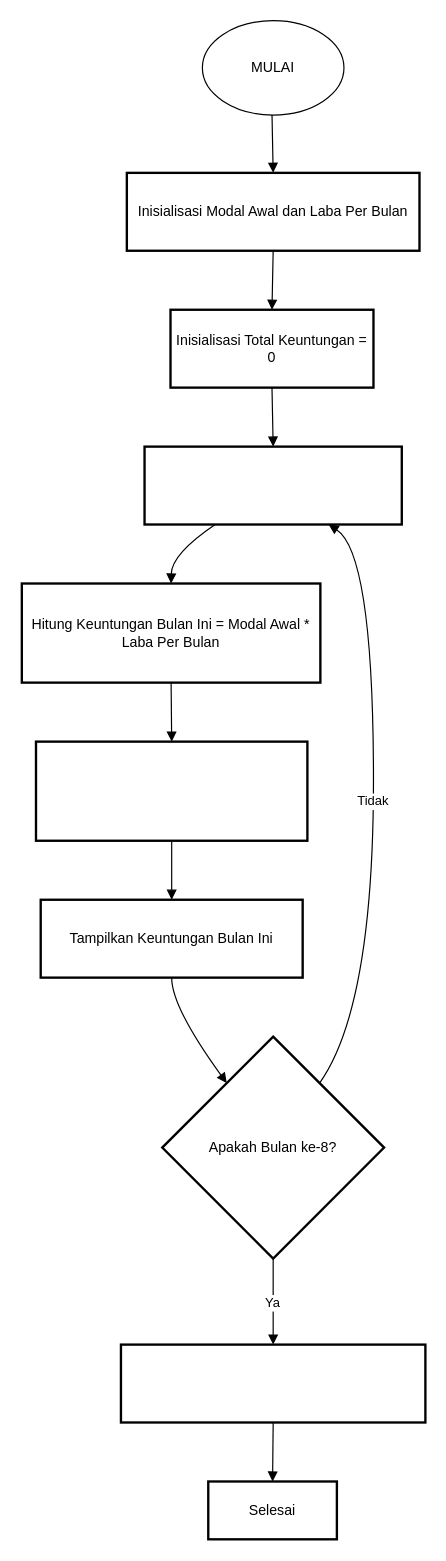
Some shapes in this 446 by 1561 pixel diagram are drawn without their labels. Here are the shapes that lost their labels. From the top down, the centre of each, then its label:
At (x=272, y=485): "Mulai Loop Bulan ke-1 hingga Bulan ke-8".
At (x=171, y=790): "Tambahkan Keuntungan Bulan Ini ke Total Keuntungan".
At (x=272, y=1383): "Tampilkan Total Keuntungan Selama 8 Bulan".
